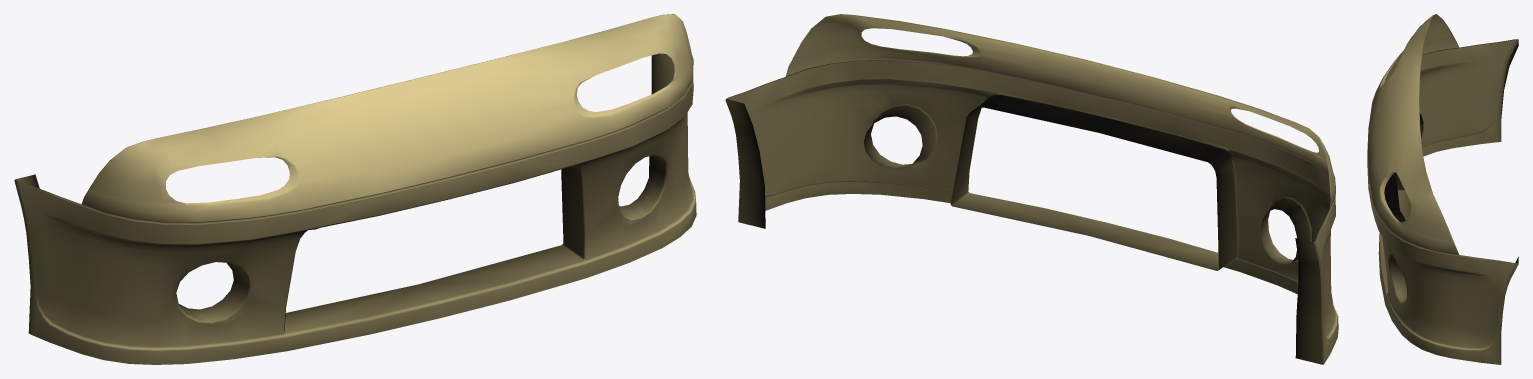
The model's file is MX5_FB03_Duco.fbx.
3 renders of one model, left to right at view 1: azimuth 30°, elevation 25°; view 2: azimuth 150°, elevation 25°; view 3: azimuth 270°, elevation 25°, orthographic. The views are drawn at different scales.
Parts seen in each view (by area): view 1: MX5_FB03_Duco; view 2: MX5_FB03_Duco; view 3: MX5_FB03_Duco.
Part boxes in pixels (<box>): MX5_FB03_Duco: <box>14,14,696,364</box>; MX5_FB03_Duco: <box>725,14,1338,364</box>; MX5_FB03_Duco: <box>1367,14,1518,364</box>.
Size of the model in its own units: 157 by 49.78 by 44.65.
